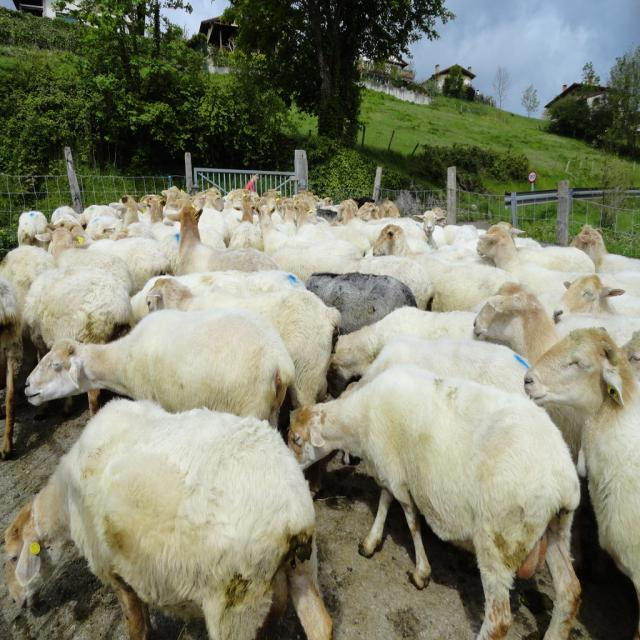Sheep: (0, 185, 640, 640)
